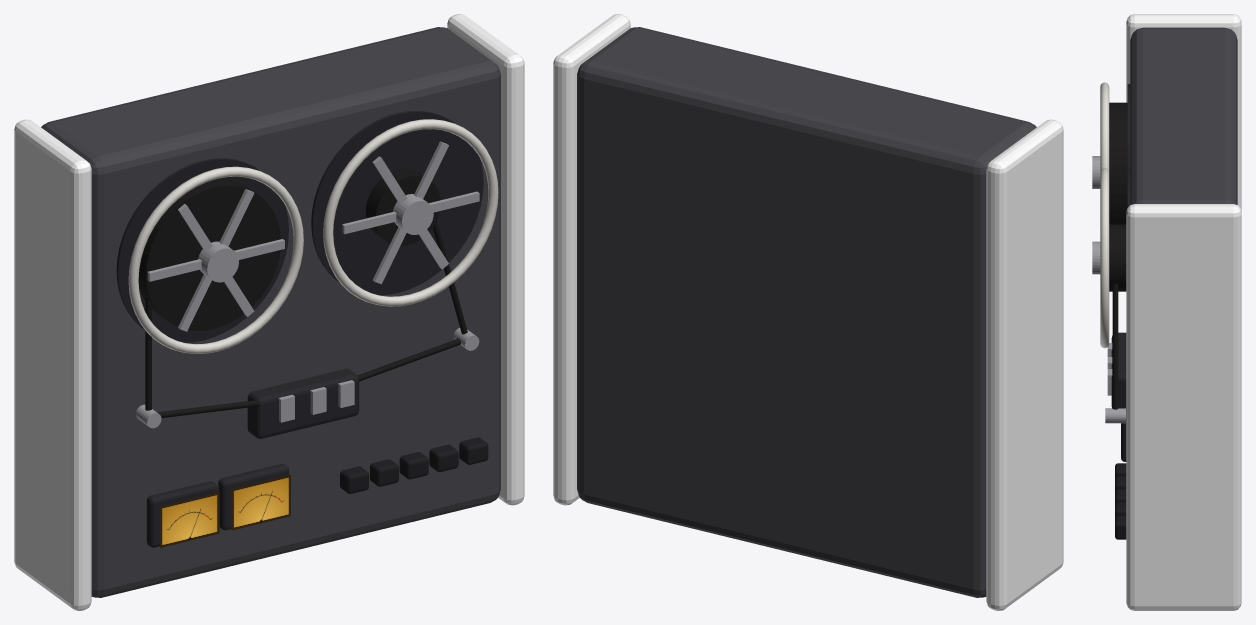
The model's file is reeldeck.glb.
3 renders of one model, left to right at view 1: azimuth 30°, elevation 25°; view 2: azimuth 150°, elevation 25°; view 3: azimuth 270°, elevation 25°, orthographic. The views are drawn at different scales.
Parts seen in each view (by area): view 1: Cube, Cube.001, Cylinder.003, Cube.002, Cylinder.001, Torus.010, Torus.009, Cylinder, Cube.009, Plane.006, Plane.005, Cylinder.004 (+18 smaller); view 2: Cube, Cube.001, Cube.002; view 3: Cube.002, Cube, Cube.001, Cylinder.001, Torus.010, Cylinder.004, Cylinder.010, Torus.009, Cube.009, Cylinder, Cylinder.012, Cylinder.005 (+3 smaller).
Part boxes in pixels (box(x1,y1,x2,y2)): Cube: box(41, 27, 500, 597); Cube.001: box(14, 119, 91, 610); Cylinder.003: box(311, 110, 483, 295); Cube.002: box(447, 14, 524, 505); Cylinder.001: box(138, 178, 280, 330); Torus.010: box(323, 119, 498, 306); Torus.009: box(128, 166, 303, 353); Cylinder: box(116, 158, 288, 342); Cube.009: box(247, 368, 359, 438); Plane.006: box(231, 474, 290, 530); Plane.005: box(160, 492, 219, 547); Cylinder.004: box(365, 168, 440, 245); Cube: box(577, 27, 1036, 597); Cube.001: box(986, 119, 1063, 610); Cube.002: box(553, 14, 630, 505); Cube.002: box(1126, 204, 1241, 610); Cube: box(1130, 27, 1237, 204); Cube.001: box(1126, 14, 1241, 210); Cylinder.001: box(1109, 102, 1127, 224); Torus.010: box(1100, 168, 1109, 348); Cylinder.004: box(1109, 224, 1126, 291); Cylinder.010: box(1112, 283, 1118, 409); Torus.009: box(1100, 82, 1109, 171); Cube.009: box(1111, 332, 1126, 411); Cylinder: box(1127, 84, 1130, 169); Cylinder.012: box(1105, 408, 1125, 423); Cylinder.005: box(1092, 241, 1100, 274).
Size of the model in its own units: 1.14 by 1.08 by 0.3625.
11 materials, 2 textured.
